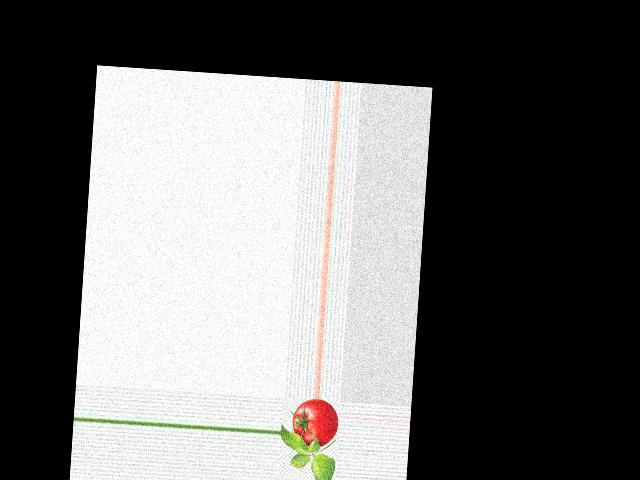tomato: (291, 397, 339, 448)
